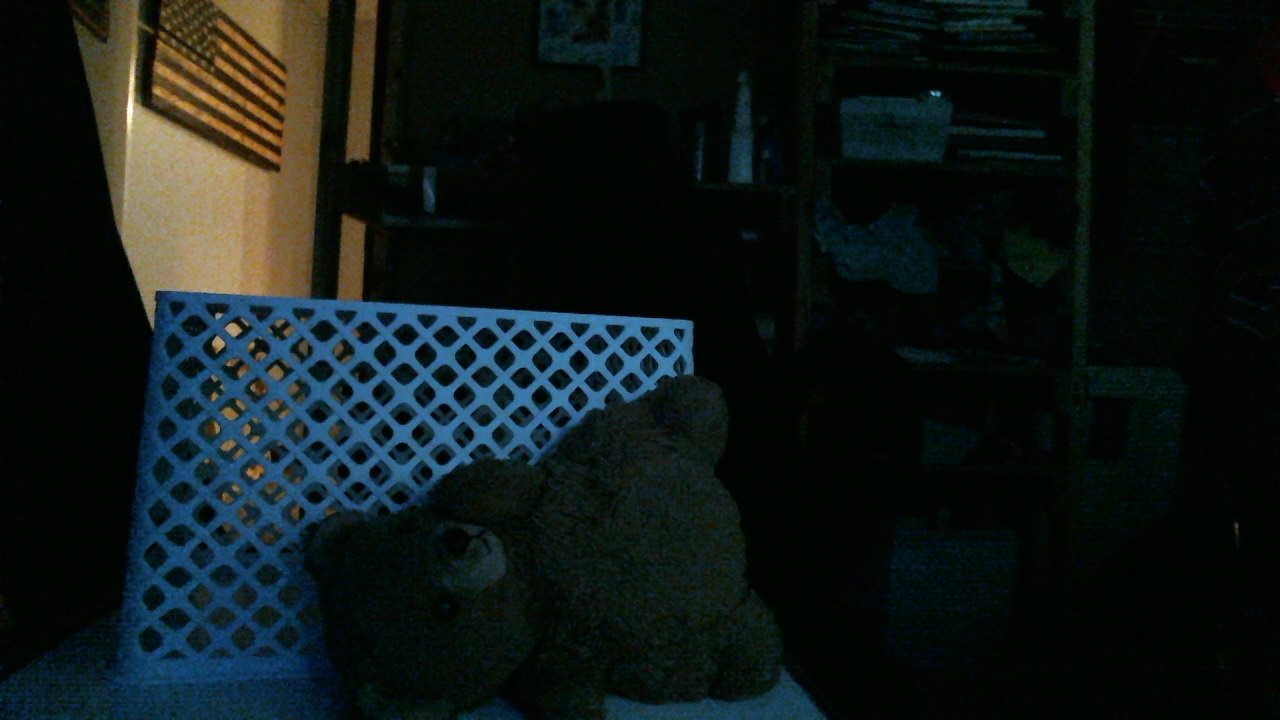Little_Mister_Bear: (396, 513, 507, 622)
